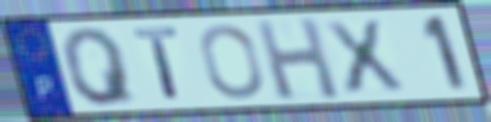1: (421, 12, 471, 95)
H: (251, 14, 344, 102)
O: (197, 22, 267, 101)
Q: (58, 25, 142, 108)
T: (129, 25, 184, 103)
X: (319, 17, 410, 97)
